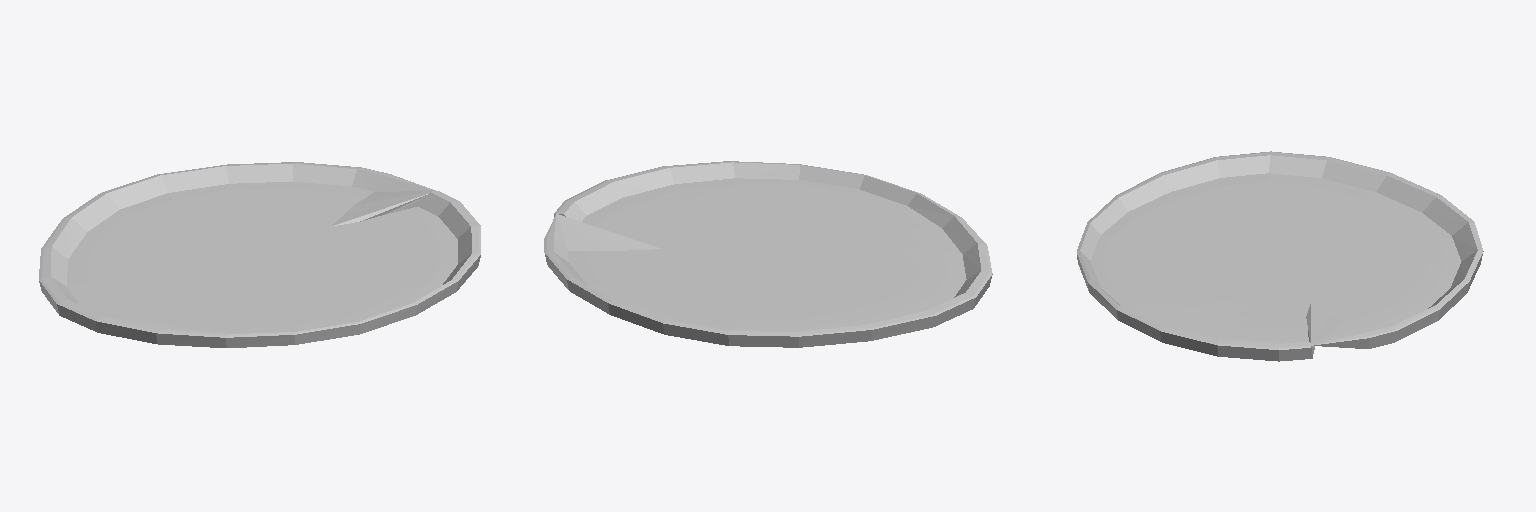
File: KK-seerosenblatt.obj
3 views of the same model, side by side, from view 1: azimuth 30°, elevation 25°; view 2: azimuth 150°, elevation 25°; view 3: azimuth 270°, elevation 25° (orthographic).
Visible parts, largest first — view 1: pSphere1; view 2: pSphere1; view 3: pSphere1.
Boxes of the visible parts, x1,y1,x2,y2 form: pSphere1: [39, 162, 480, 347]; pSphere1: [544, 161, 992, 347]; pSphere1: [1077, 151, 1483, 361].
Bounding box in the file's own units: 12.28 × 0.4249 × 10.63.